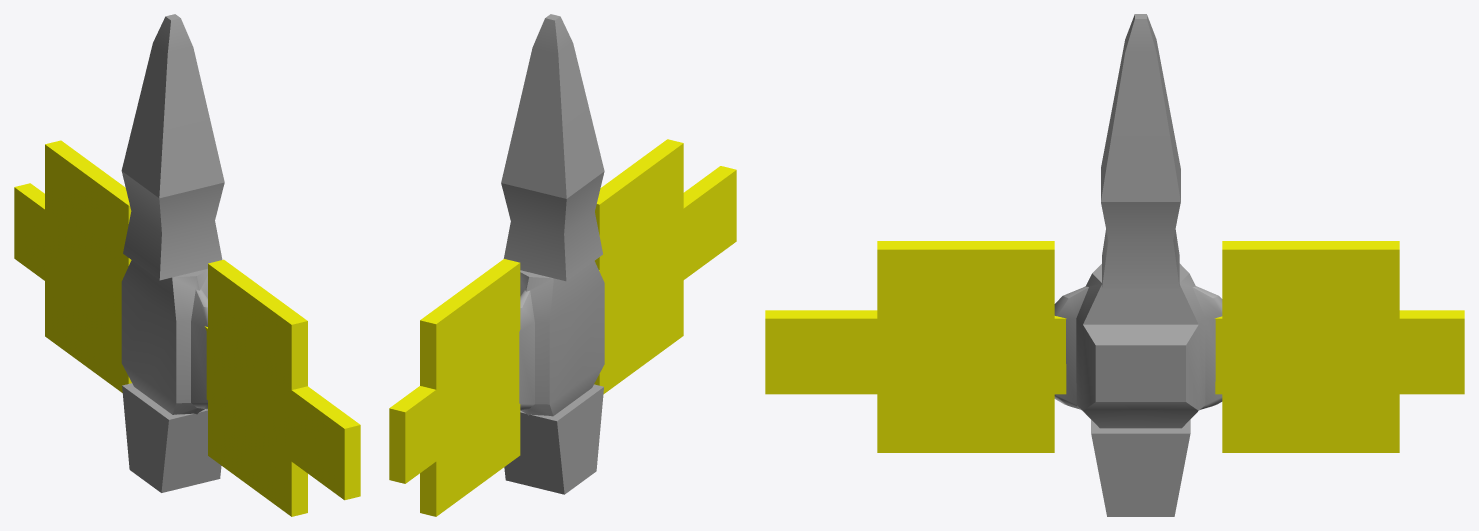
File: BeeQueenDrone.fbx
The picture shows the model from 3 angles, left to right: view 1: azimuth 30°, elevation 25°; view 2: azimuth 150°, elevation 25°; view 3: azimuth 270°, elevation 25°; orthographic projection. The views are drawn at different scales.
Visible parts, largest first — view 1: polySurface8, polySurface7; view 2: polySurface8, polySurface7; view 3: polySurface8, polySurface7.
Boxes of the visible parts, box(x1,y1,x2,y2) form: polySurface8: box(14, 140, 360, 516); polySurface7: box(121, 14, 224, 492); polySurface8: box(389, 139, 736, 516); polySurface7: box(501, 14, 604, 494); polySurface8: box(765, 241, 1464, 452); polySurface7: box(1054, 14, 1222, 516).
Size of the model in its own units: 29.76 by 245 by 187.
